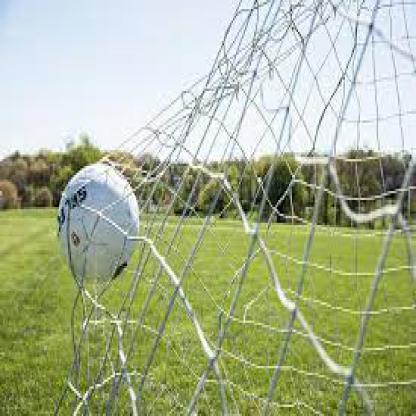goal: (52, 129, 187, 372)
